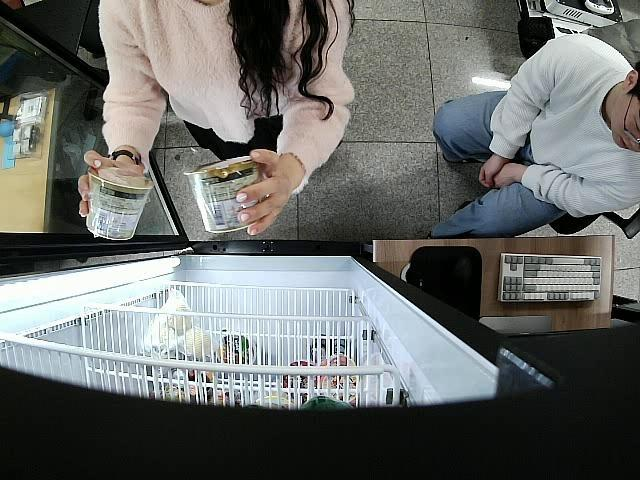04_chapagetti_S: (184, 155, 266, 234), (86, 161, 153, 241)
